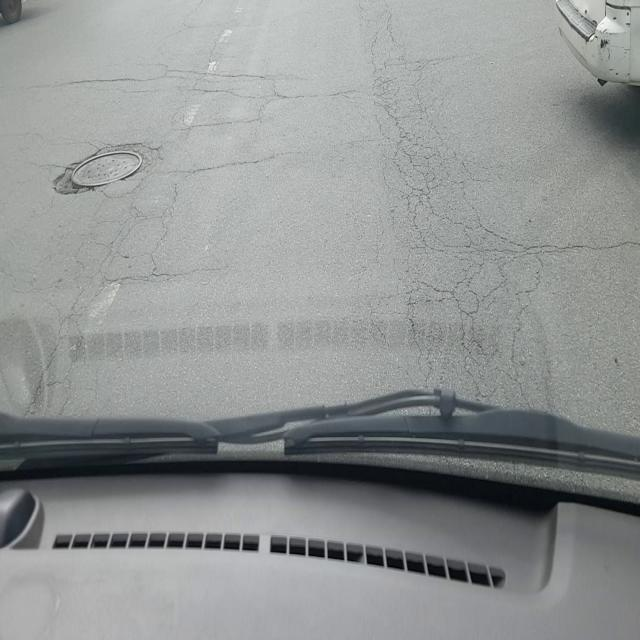Pothole: (48, 144, 146, 198)
